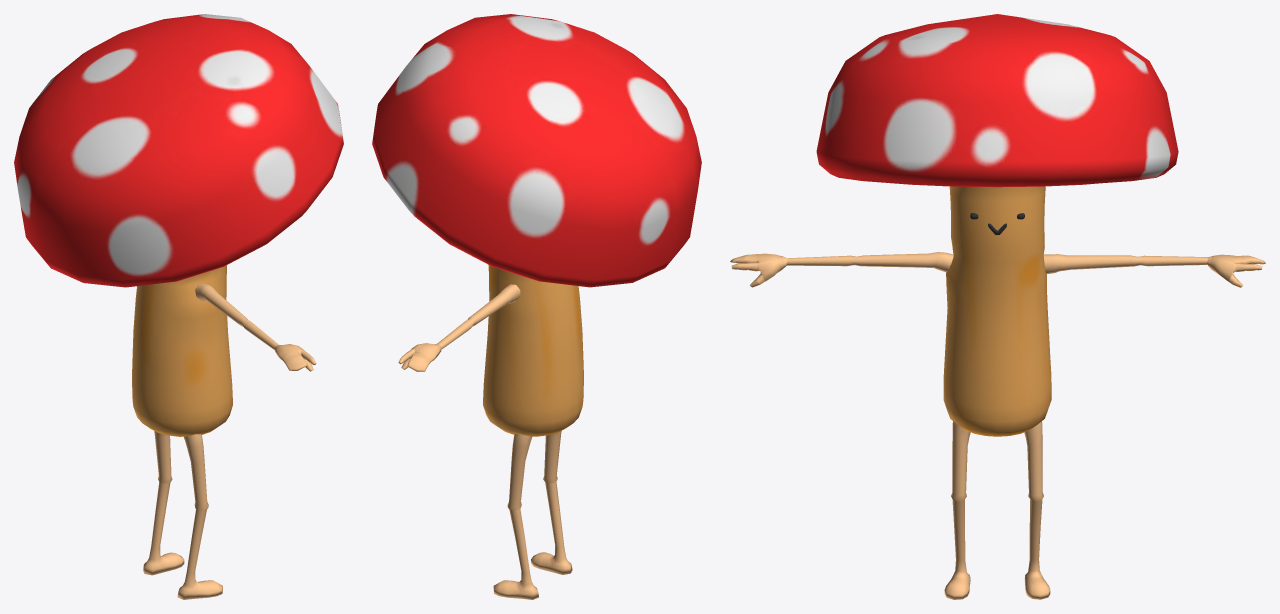
The model's file is MushroomCharacter.glb.
3 renders of one model, left to right at view 1: azimuth 30°, elevation 25°; view 2: azimuth 150°, elevation 25°; view 3: azimuth 270°, elevation 25°, orthographic. The views are drawn at different scales.
Visible parts, largest first — view 1: mesh_char_27; view 2: mesh_char_27; view 3: mesh_char_27.
Boxes of the visible parts, x1,y1,x2,y2 form: mesh_char_27: (14, 14, 343, 599); mesh_char_27: (372, 14, 701, 599); mesh_char_27: (730, 14, 1265, 599).
Size of the model in its own units: 3.15 by 5.68 by 4.82.
Materials: 1 (1 with a texture image).
